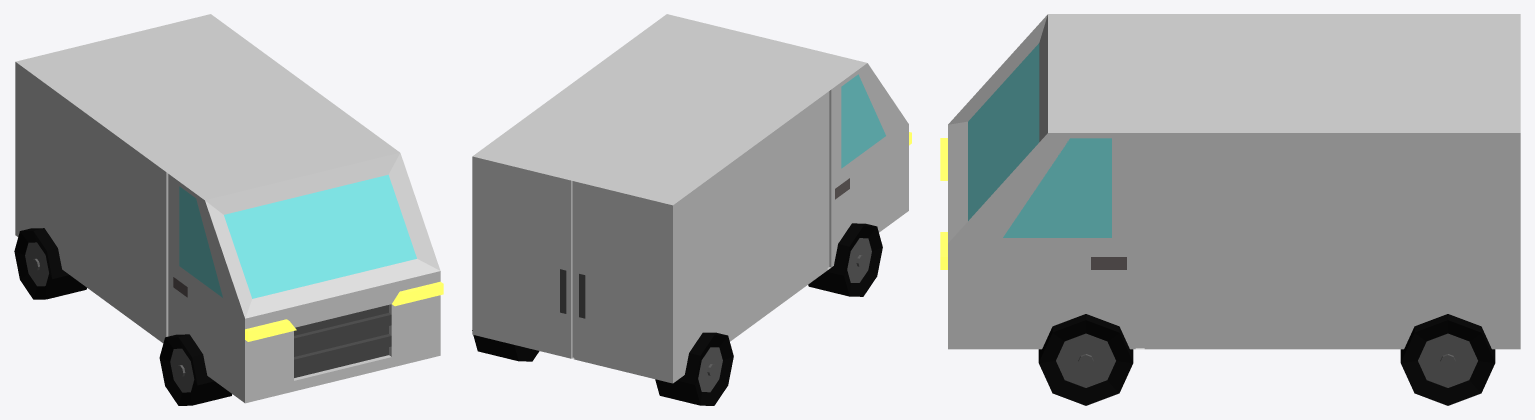
File: van.fbx
The picture shows the model from 3 angles, left to right: view 1: azimuth 30°, elevation 25°; view 2: azimuth 150°, elevation 25°; view 3: azimuth 270°, elevation 25°; orthographic projection. The views are drawn at different scales.
Parts seen in each view (by area): view 1: Cube.001; view 2: Cube.001; view 3: Cube.001.
Part boxes in pixels (x1=…): Cube.001: x1=14, y1=14, x2=443, y2=405; Cube.001: x1=472, y1=14, x2=911, y2=405; Cube.001: x1=940, y1=14, x2=1520, y2=405.
Size of the model in its own units: 319 by 301 by 593.
